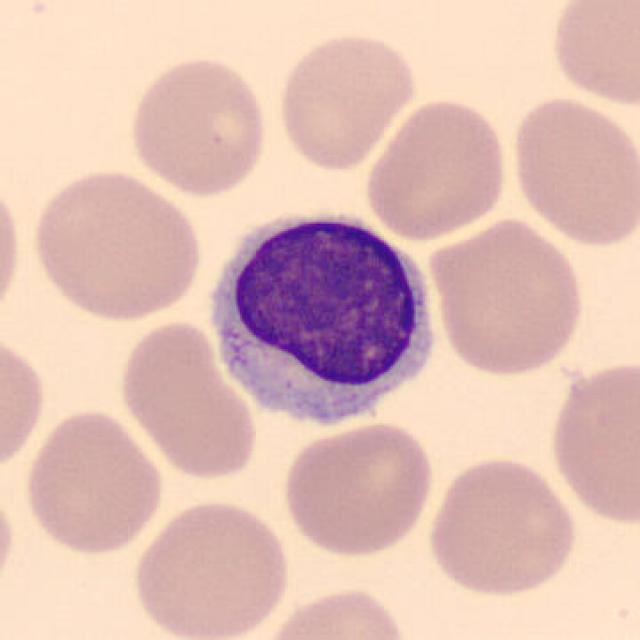Lymphocyte: (194, 197, 446, 439)
RBC: (25, 165, 206, 322), (425, 215, 587, 379), (114, 316, 261, 483), (128, 495, 293, 640), (423, 453, 580, 600), (278, 418, 438, 559), (361, 94, 512, 242), (20, 406, 167, 557), (123, 51, 272, 199), (272, 26, 420, 173), (507, 92, 638, 250), (544, 354, 638, 529), (544, 0, 640, 111), (258, 582, 414, 640), (0, 328, 50, 479), (0, 171, 27, 330), (0, 476, 20, 601)
